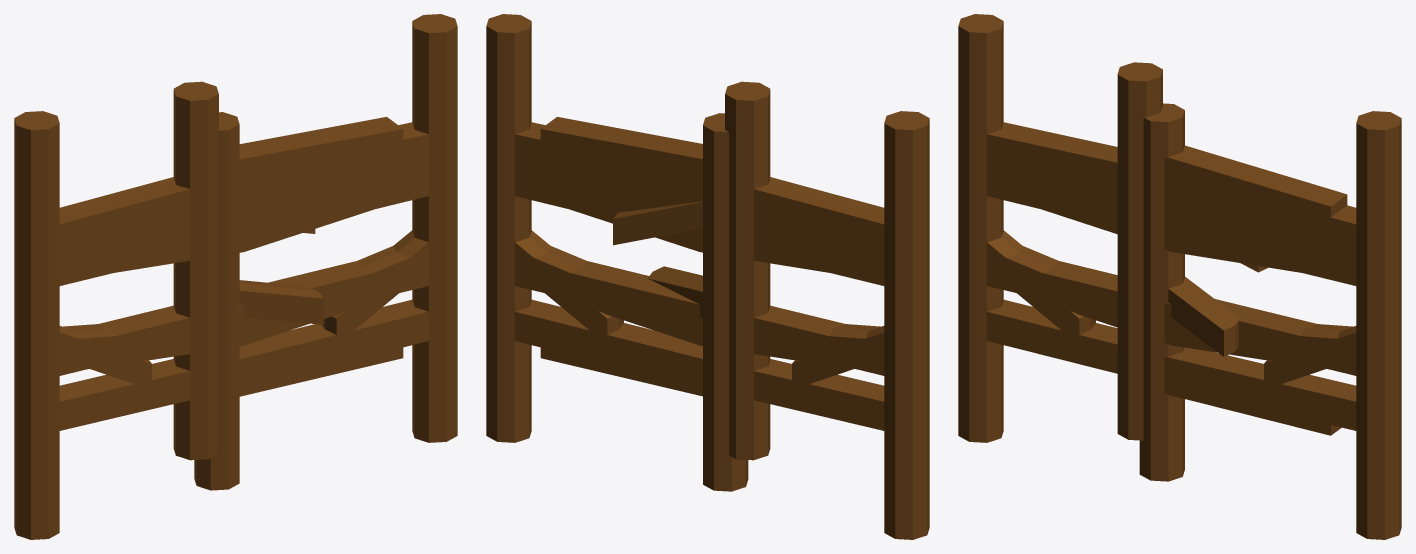
File: fence(collection).fbx
3 renders of one model, left to right at view 1: azimuth 30°, elevation 25°; view 2: azimuth 150°, elevation 25°; view 3: azimuth 330°, elevation 25°, orthographic.
Visible parts, largest first — view 1: fence06, fence07, fence08, fence02, fence04, fence01, fence03, fence05; view 2: fence06, fence07, fence02, fence03, fence05, fence08, fence01, fence04; view 3: fence06, fence03, fence07, fence08, fence01, fence05, fence02, fence04.
Part boxes in pixels (left/top/right/bottom): fence06: left=14, top=14, right=457, bottom=489; fence07: left=173, top=81, right=403, bottom=460; fence08: left=31, top=155, right=456, bottom=511; fence02: left=14, top=162, right=457, bottom=539; fence04: left=14, top=161, right=457, bottom=532; fence01: left=37, top=52, right=457, bottom=510; fence03: left=47, top=46, right=457, bottom=508; fence05: left=194, top=112, right=323, bottom=490; fence06: left=486, top=14, right=929, bottom=489; fence07: left=540, top=81, right=770, bottom=460; fence02: left=486, top=160, right=929, bottom=539; fence03: left=486, top=46, right=898, bottom=508; fence05: left=613, top=113, right=748, bottom=491; fence08: left=486, top=137, right=912, bottom=507; fence01: left=486, top=152, right=912, bottom=444; fence04: left=486, top=153, right=929, bottom=532; fence06: left=958, top=14, right=1401, bottom=488; fence03: left=969, top=42, right=1401, bottom=509; fence07: left=1117, top=62, right=1347, bottom=440; fence08: left=968, top=50, right=1401, bottom=513; fence01: left=967, top=152, right=1401, bottom=512; fence05: left=1139, top=103, right=1267, bottom=481; fence02: left=958, top=164, right=1401, bottom=539; fence04: left=958, top=152, right=1389, bottom=532.
Size of what is drawn, in the model's own units: 163 by 146 by 24.56.
